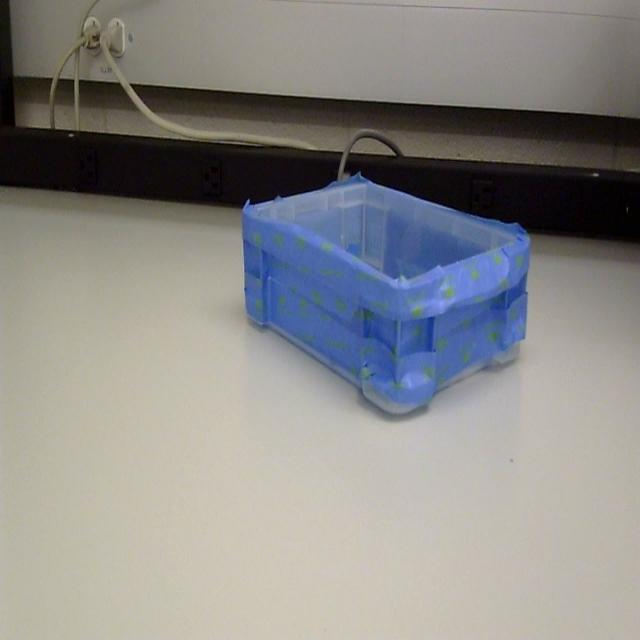bucket: (240, 176, 532, 421)
